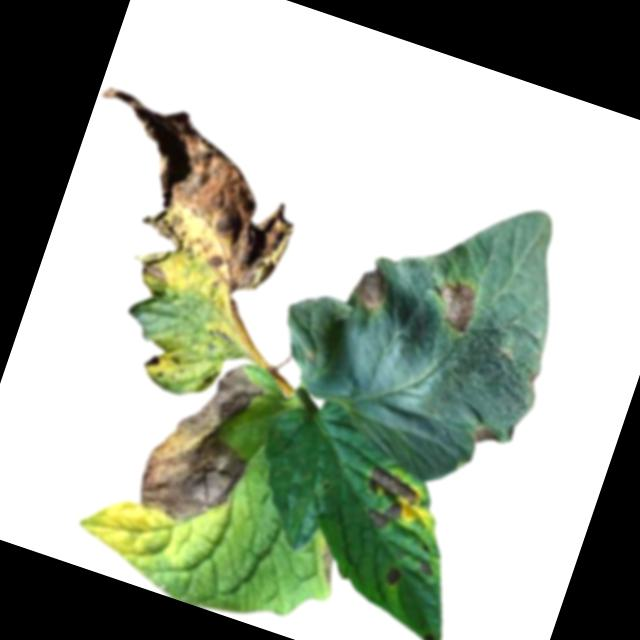Early_blight: (50, 79, 320, 313), (130, 345, 278, 538), (352, 461, 425, 537), (428, 274, 484, 336), (349, 264, 395, 315), (315, 541, 342, 584), (467, 420, 502, 451), (381, 562, 406, 588), (142, 345, 165, 370), (415, 555, 438, 577), (418, 631, 441, 640)
